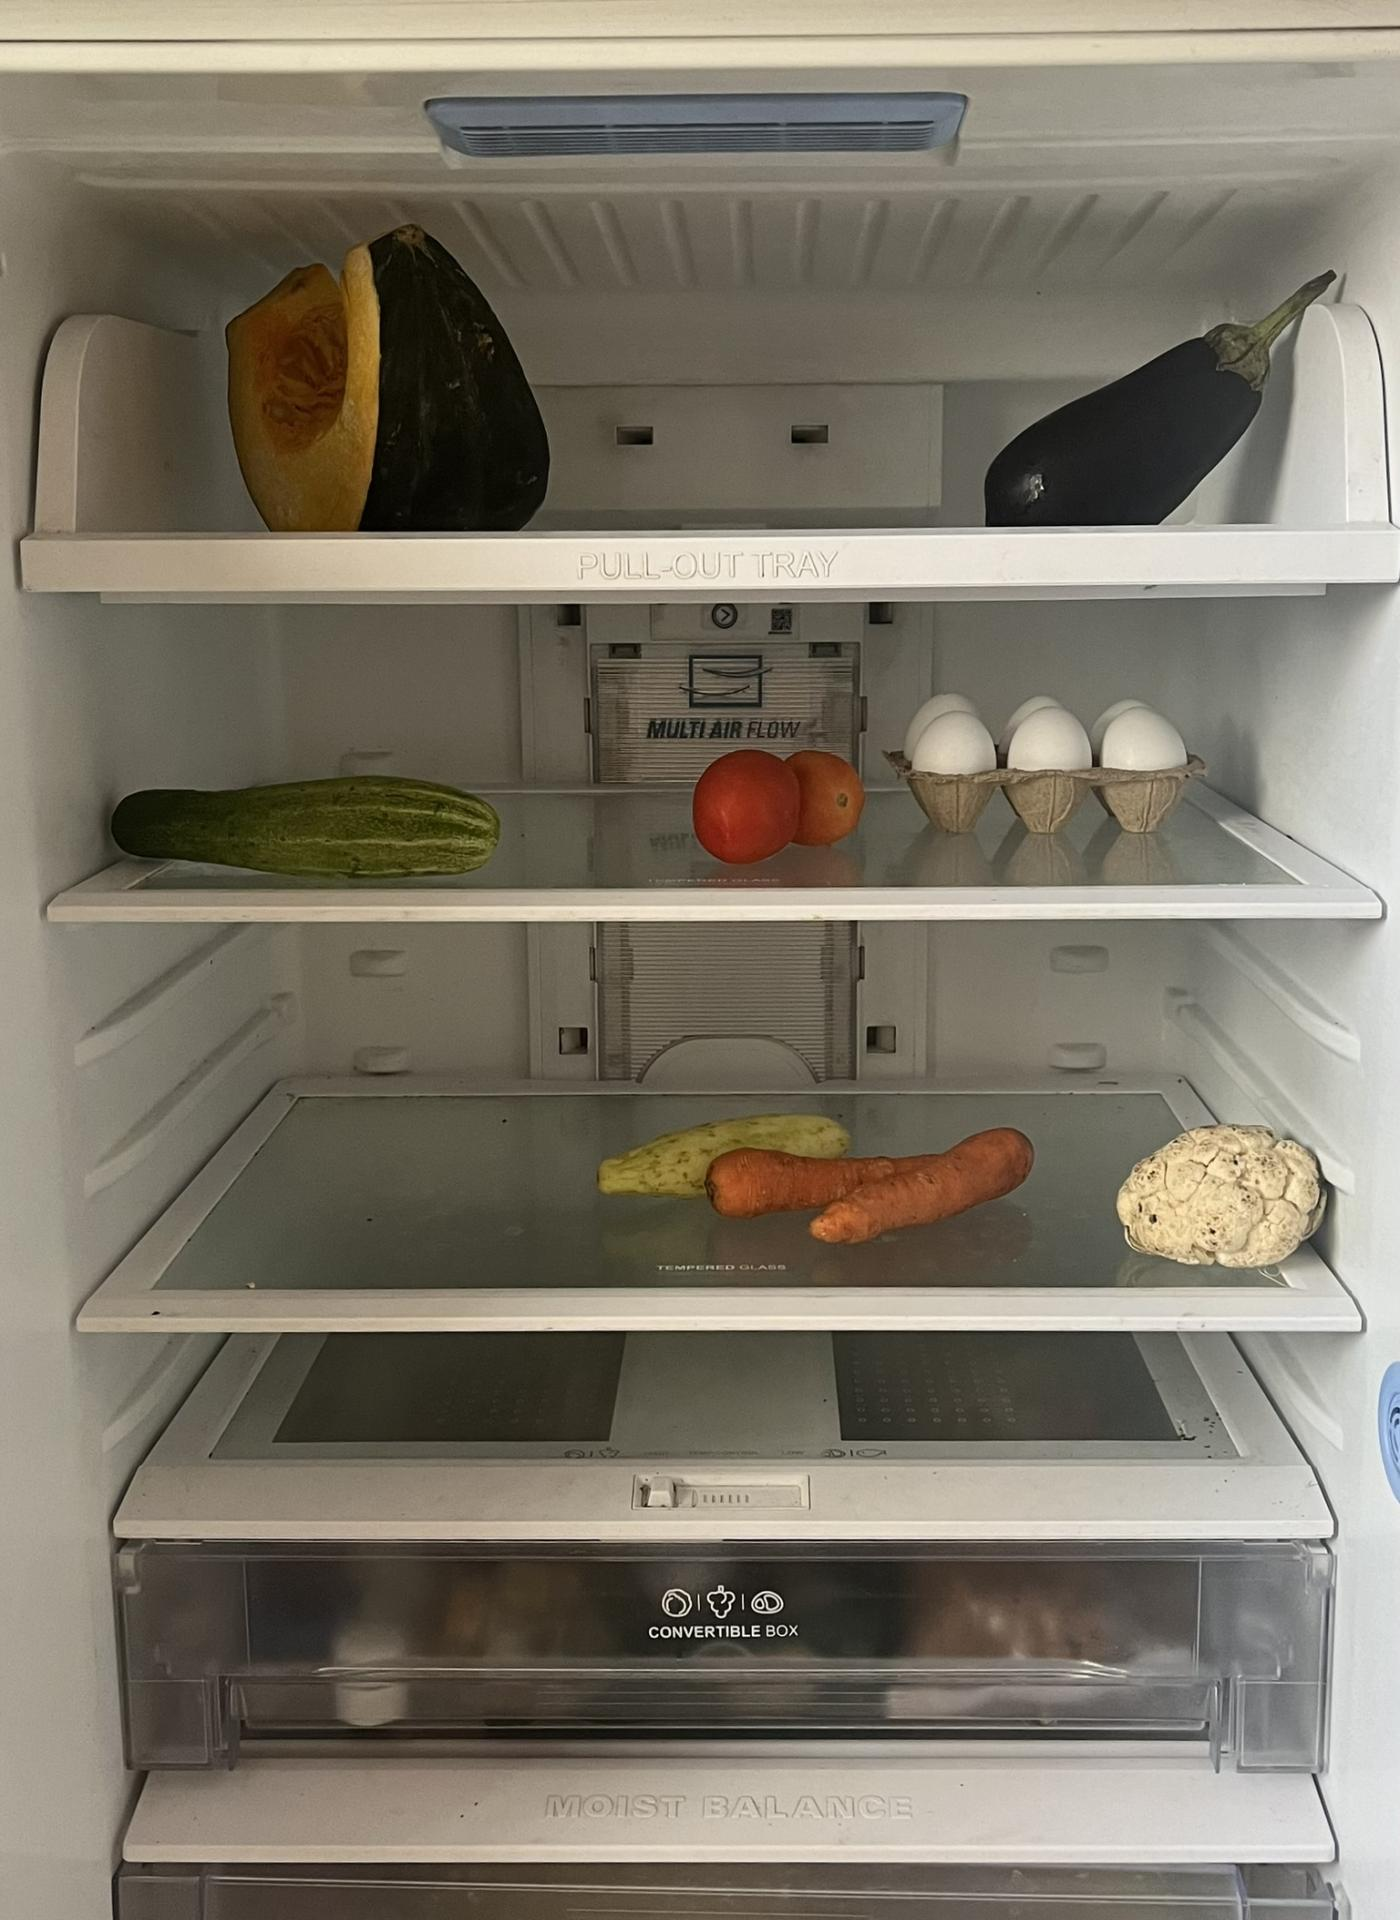brinjal: (965, 273, 1339, 540)
carrots: (716, 1133, 1027, 1240)
cauliflower: (1114, 1112, 1327, 1267)
cucumber: (115, 775, 494, 865), (613, 1112, 845, 1187)
egg: (902, 696, 1199, 838)
pumpkin: (221, 230, 552, 538)
tomato: (693, 747, 863, 869)
